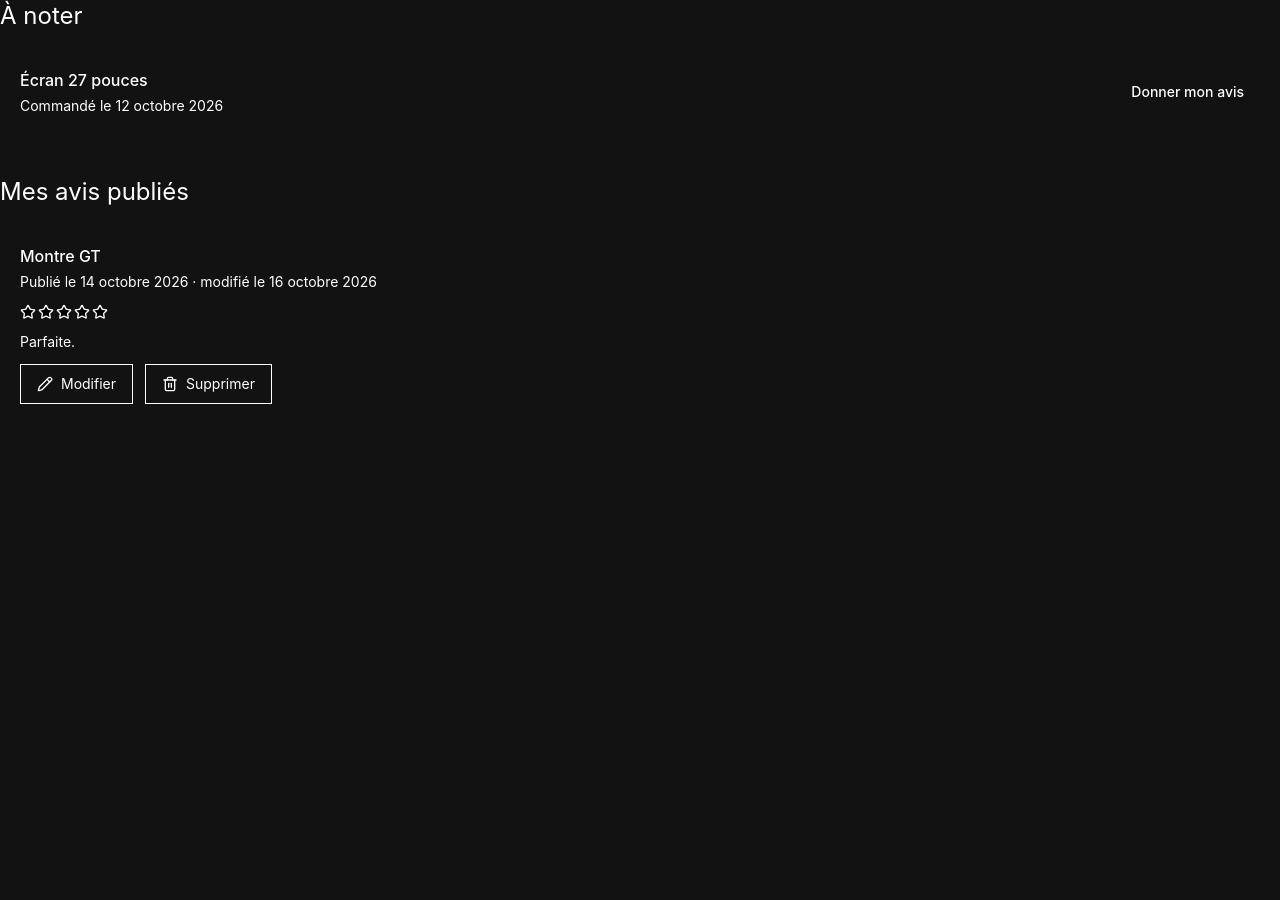
Test: « Mes avis » › deletes a review after confirmation and announces it
Click the button with aria-label "Supprimer ton avis sur Montre GT" at (208, 384), box x1=145 y1=364 x2=272 y2=404
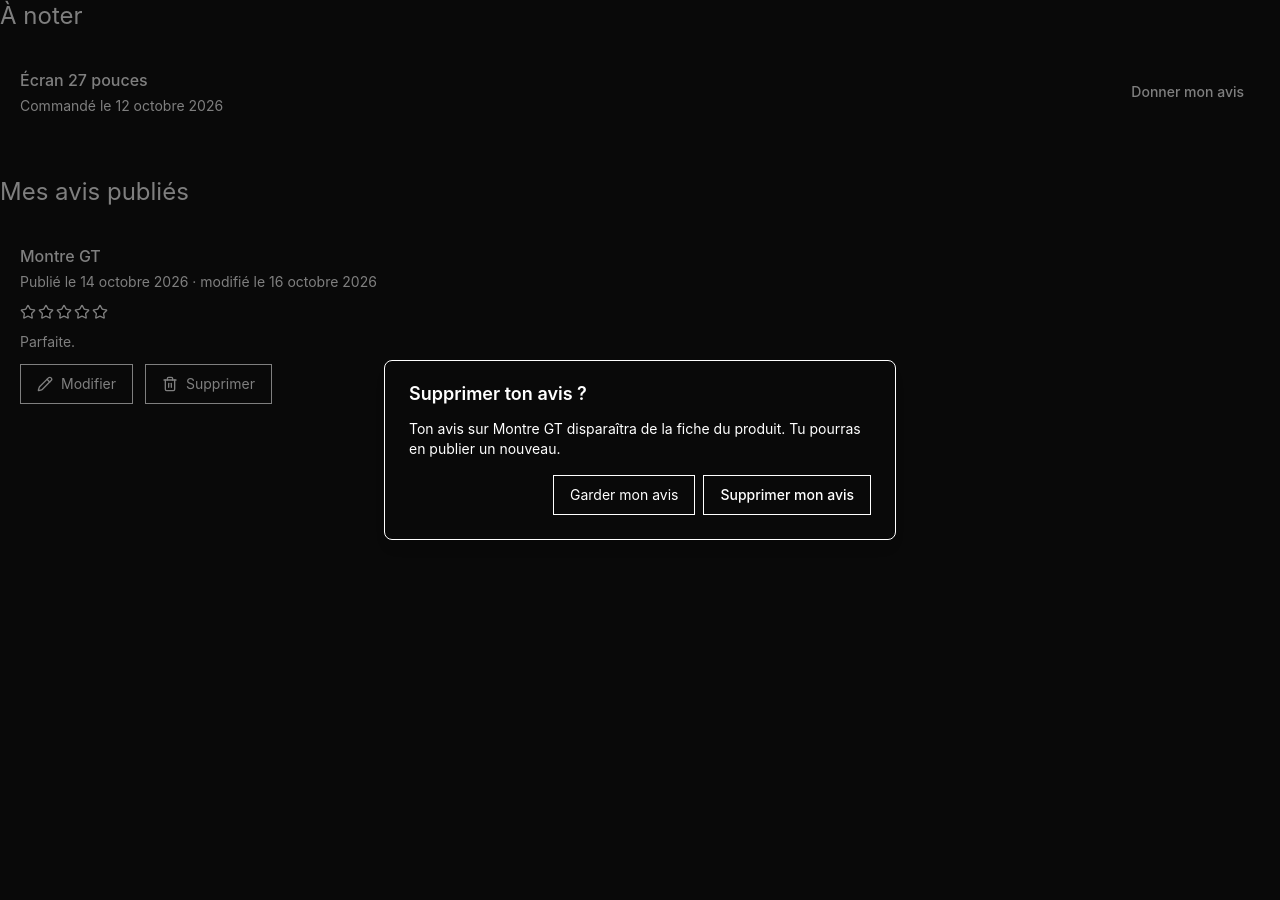
Click the button "Supprimer mon avis" at (787, 495), box x1=704 y1=475 x2=871 y2=515
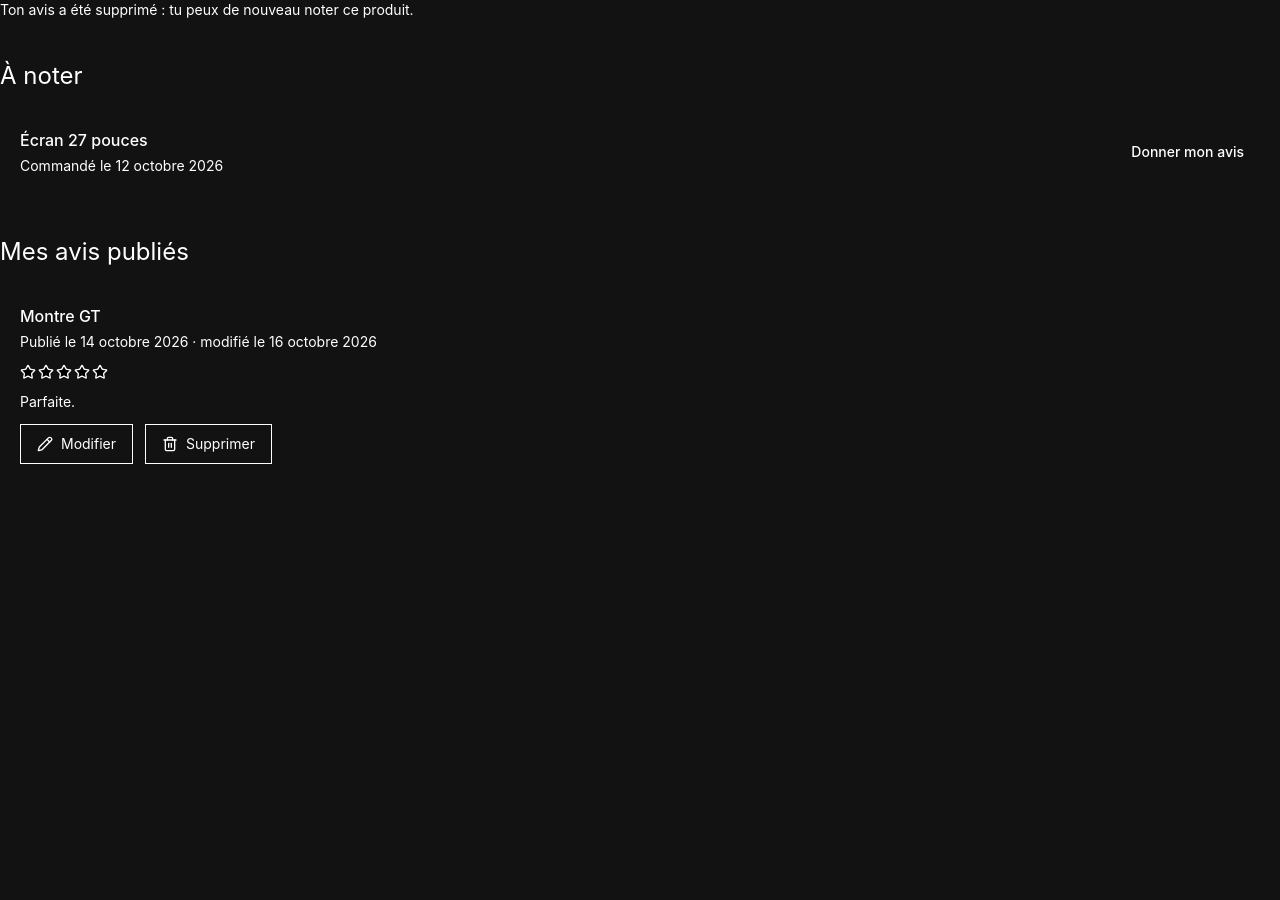
Result: the text "Ton avis a été supprimé : tu peux de nouveau noter ce produit." is shown at x1=0 y1=1 x2=414 y2=18
